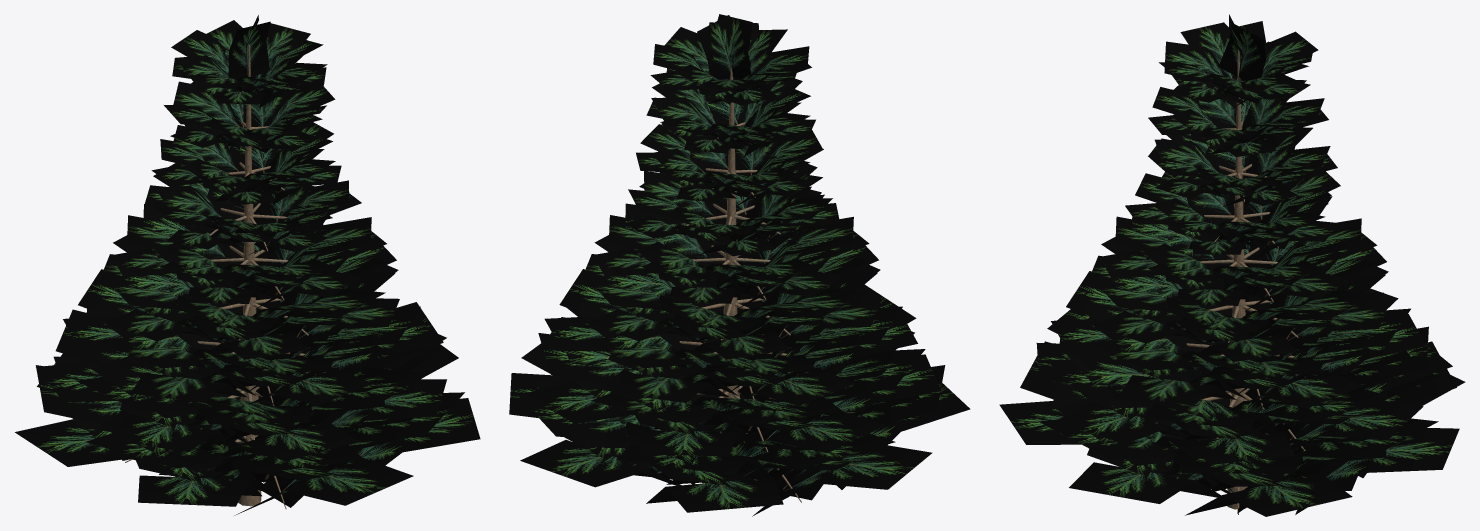
File: tree_spruce.glb
3 views of the same model, side by side, from view 1: azimuth 30°, elevation 25°; view 2: azimuth 150°, elevation 25°; view 3: azimuth 270°, elevation 25° (orthographic).
Parts seen in each view (by area): view 1: foliage, trunk; view 2: foliage, trunk; view 3: foliage, trunk.
Boxes of the visible parts, x1=… form: foliage: x1=15, y1=15, x2=480, y2=515; trunk: x1=125, y1=45, x2=308, y2=509; foliage: x1=509, y1=14, x2=970, y2=516; trunk: x1=679, y1=67, x2=801, y2=502; foliage: x1=999, y1=14, x2=1465, y2=516; trunk: x1=1186, y1=48, x2=1305, y2=514.
Size of the model in its own units: 10.6 by 12.15 by 10.59.
2 materials, 2 textured.
